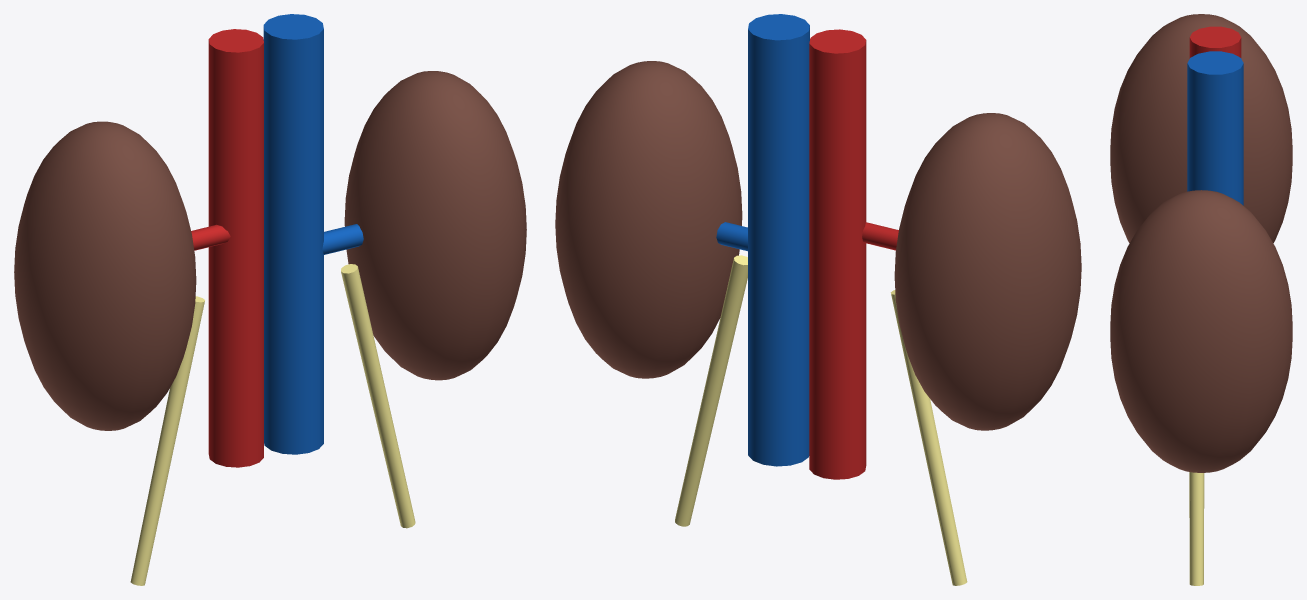
File: kidneys.glb
The picture shows the model from 3 angles, left to right: view 1: azimuth 30°, elevation 25°; view 2: azimuth 150°, elevation 25°; view 3: azimuth 270°, elevation 25°; orthographic projection. The views are drawn at different scales.
Parts seen in each view (by area): view 1: HumanKidneys; view 2: HumanKidneys; view 3: HumanKidneys.
Boxes of the visible parts, box(x1,y1,x2,y2) form: HumanKidneys: box(14, 14, 526, 585); HumanKidneys: box(555, 14, 1081, 585); HumanKidneys: box(1110, 14, 1292, 585).
Size of the model in its own units: 2.19 by 2.24 by 0.7792.
